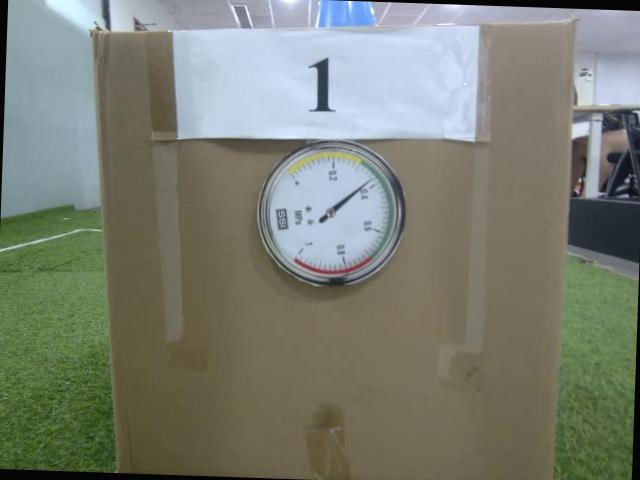1: (304, 55, 340, 116)
Dashboard: (256, 140, 410, 292)
blue_barrel: (314, 0, 380, 32)
ssi: (272, 206, 289, 232)
